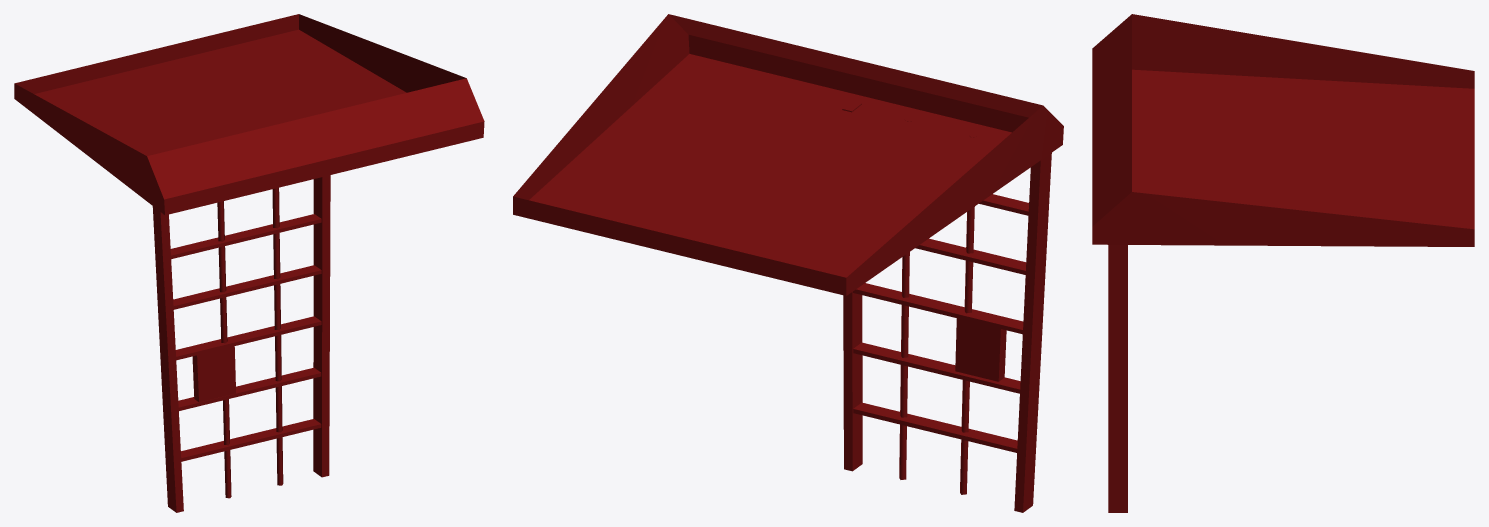
Rendered from SM_Jail_Bars.fbx.
3 views of the same model, side by side, from view 1: azimuth 30°, elevation 25°; view 2: azimuth 150°, elevation 25°; view 3: azimuth 270°, elevation 25° (orthographic). The views are drawn at different scales.
Parts seen in each view (by area): view 1: SM_Jail_Bars; view 2: SM_Jail_Bars; view 3: SM_Jail_Bars.
Boxes of the visible parts, x1=… form: SM_Jail_Bars: x1=14, y1=14, x2=484, y2=512; SM_Jail_Bars: x1=513, y1=14, x2=1063, y2=512; SM_Jail_Bars: x1=1092, y1=14, x2=1474, y2=512.
Size of the model in its own units: 9.25 by 9.77 by 8.38.
